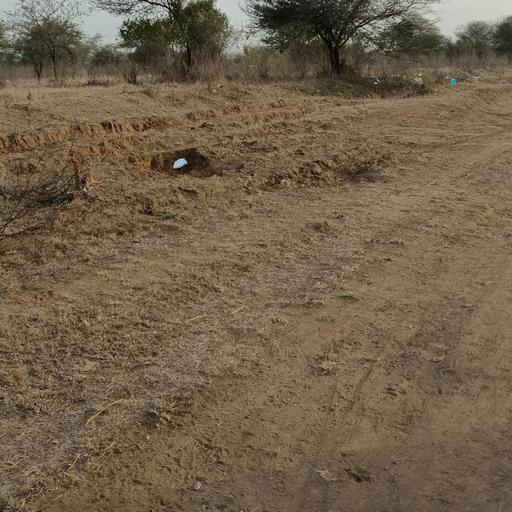vehicle_track: (15, 124, 512, 512)
